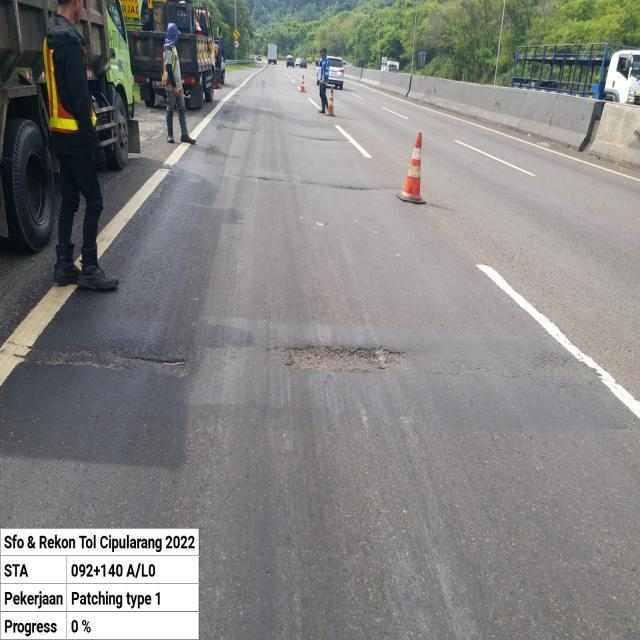Buraco: (282, 343, 407, 376), (124, 354, 190, 380)
